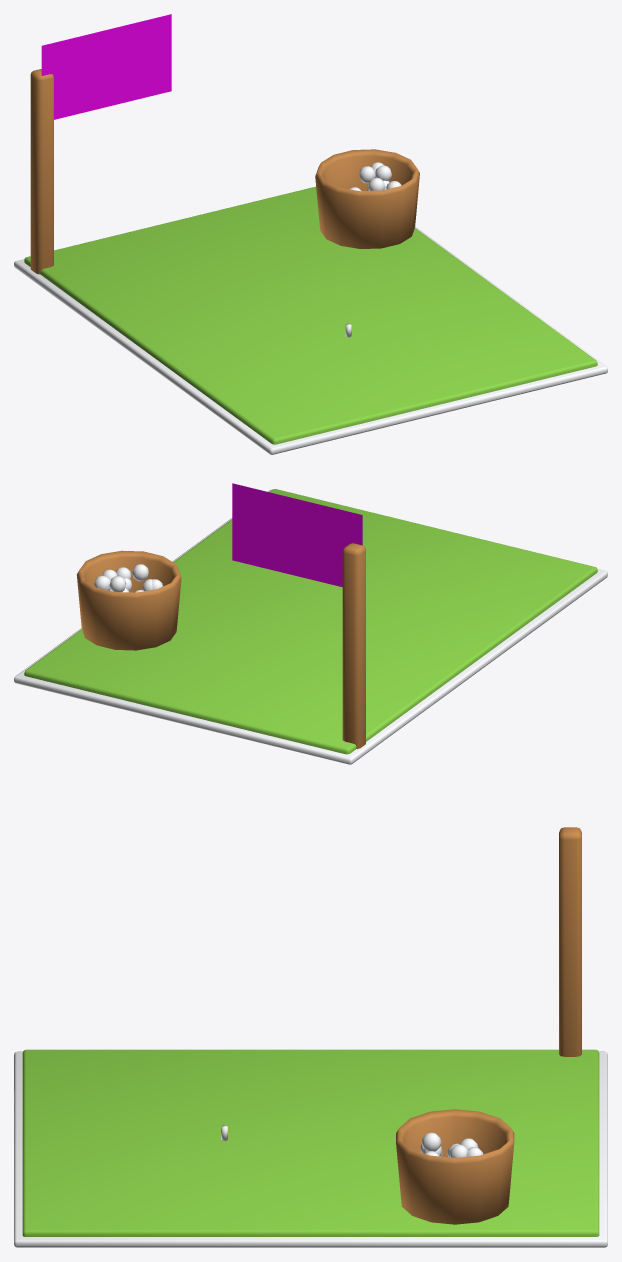
Rendered from golf_tee.glb.
3 views of the same model, one above another, from view 1: azimuth 30°, elevation 25°; view 2: azimuth 150°, elevation 25°; view 3: azimuth 270°, elevation 25° (orthographic). The views are drawn at different scales.
Visible parts, largest first — view 1: golf_tee; view 2: golf_tee; view 3: golf_tee.
Boxes of the visible parts, left/top/right/bottom form: golf_tee: left=14, top=14, right=607, bottom=454; golf_tee: left=14, top=483, right=607, bottom=764; golf_tee: left=14, top=827, right=607, bottom=1247.
Bounding box in the file's own units: 1.56 × 1.03 × 2.06.
